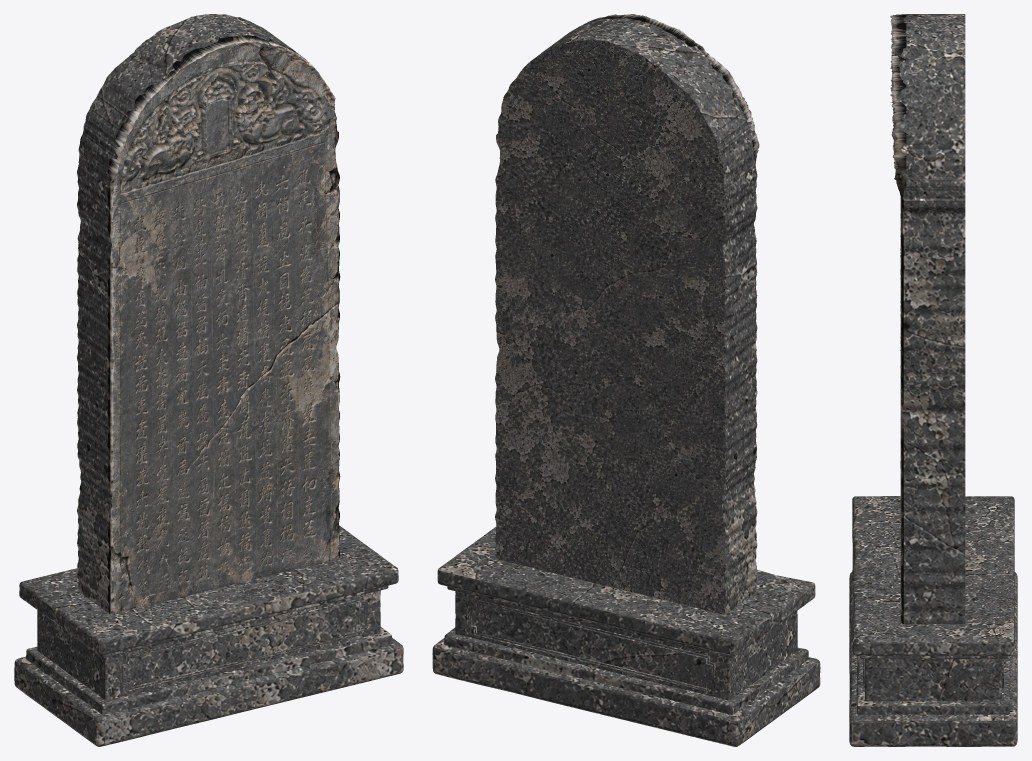
File: beilin-stele.gltf
The picture shows the model from 3 angles, left to right: view 1: azimuth 30°, elevation 25°; view 2: azimuth 150°, elevation 25°; view 3: azimuth 270°, elevation 25°; orthographic projection.
Parts seen in each view (by area): view 1: 01 | Arched stele, carved crest and inscription, 06 | Overhanging stone cap, 04 | Pedestal panel body, 02 | Lower stone foot, 03 | Lower beveled course, Pedestal | recessed panel outline, Pedestal | recessed panel outline.001, 05 | Upper fine molding; view 2: 01 | Arched stele, carved crest and inscription, 06 | Overhanging stone cap, 04 | Pedestal panel body, 02 | Lower stone foot, 03 | Lower beveled course, Pedestal | recessed panel outline.002, Pedestal | recessed panel outline.003, 05 | Upper fine molding; view 3: 01 | Arched stele, carved crest and inscription, 06 | Overhanging stone cap, 02 | Lower stone foot, 04 | Pedestal panel body, 03 | Lower beveled course, 05 | Upper fine molding.
Part boxes in pixels (box(x1,y1,x2,y2)): 01 | Arched stele, carved crest and inscription: box(77, 14, 340, 613); 06 | Overhanging stone cap: box(19, 525, 398, 655); 04 | Pedestal panel body: box(37, 590, 380, 699); 02 | Lower stone foot: box(14, 637, 403, 746); 03 | Lower beveled course: box(26, 627, 391, 714); Pedestal | recessed panel outline: box(120, 598, 367, 692); Pedestal | recessed panel outline.001: box(122, 601, 365, 689); 05 | Upper fine molding: box(99, 585, 388, 657); 01 | Arched stele, carved crest and inscription: box(495, 14, 759, 614); 06 | Overhanging stone cap: box(437, 527, 815, 655); 04 | Pedestal panel body: box(455, 591, 797, 700); 02 | Lower stone foot: box(432, 638, 820, 746); 03 | Lower beveled course: box(444, 627, 808, 714); Pedestal | recessed panel outline.002: box(468, 598, 714, 692); Pedestal | recessed panel outline.003: box(470, 601, 712, 689); 05 | Upper fine molding: box(447, 586, 802, 658); 01 | Arched stele, carved crest and inscription: box(890, 14, 965, 624); 06 | Overhanging stone cap: box(852, 496, 1014, 655); 02 | Lower stone foot: box(849, 572, 1017, 746); 04 | Pedestal panel body: box(864, 658, 1002, 701); 03 | Lower beveled course: box(856, 656, 1010, 714); 05 | Upper fine molding: box(859, 656, 1007, 658).
Size of the model in its own units: 1.2 by 2.43 by 0.5719.
Materials: 3 (3 with a texture image).
